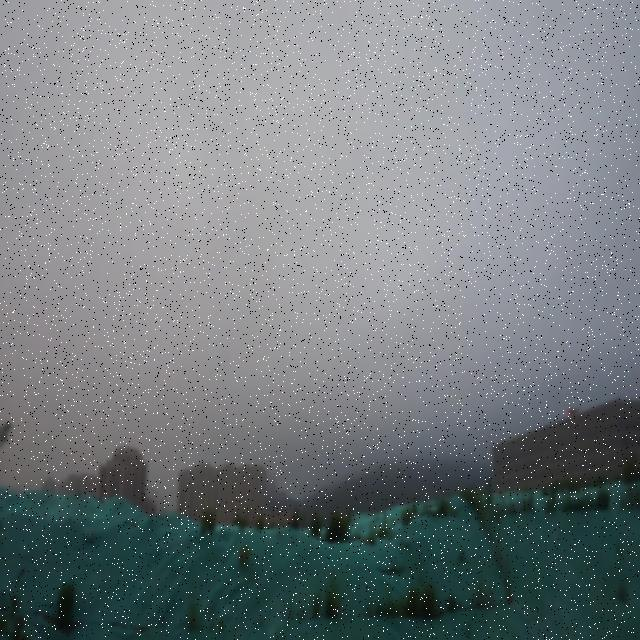UAV: (566, 408, 580, 417)
